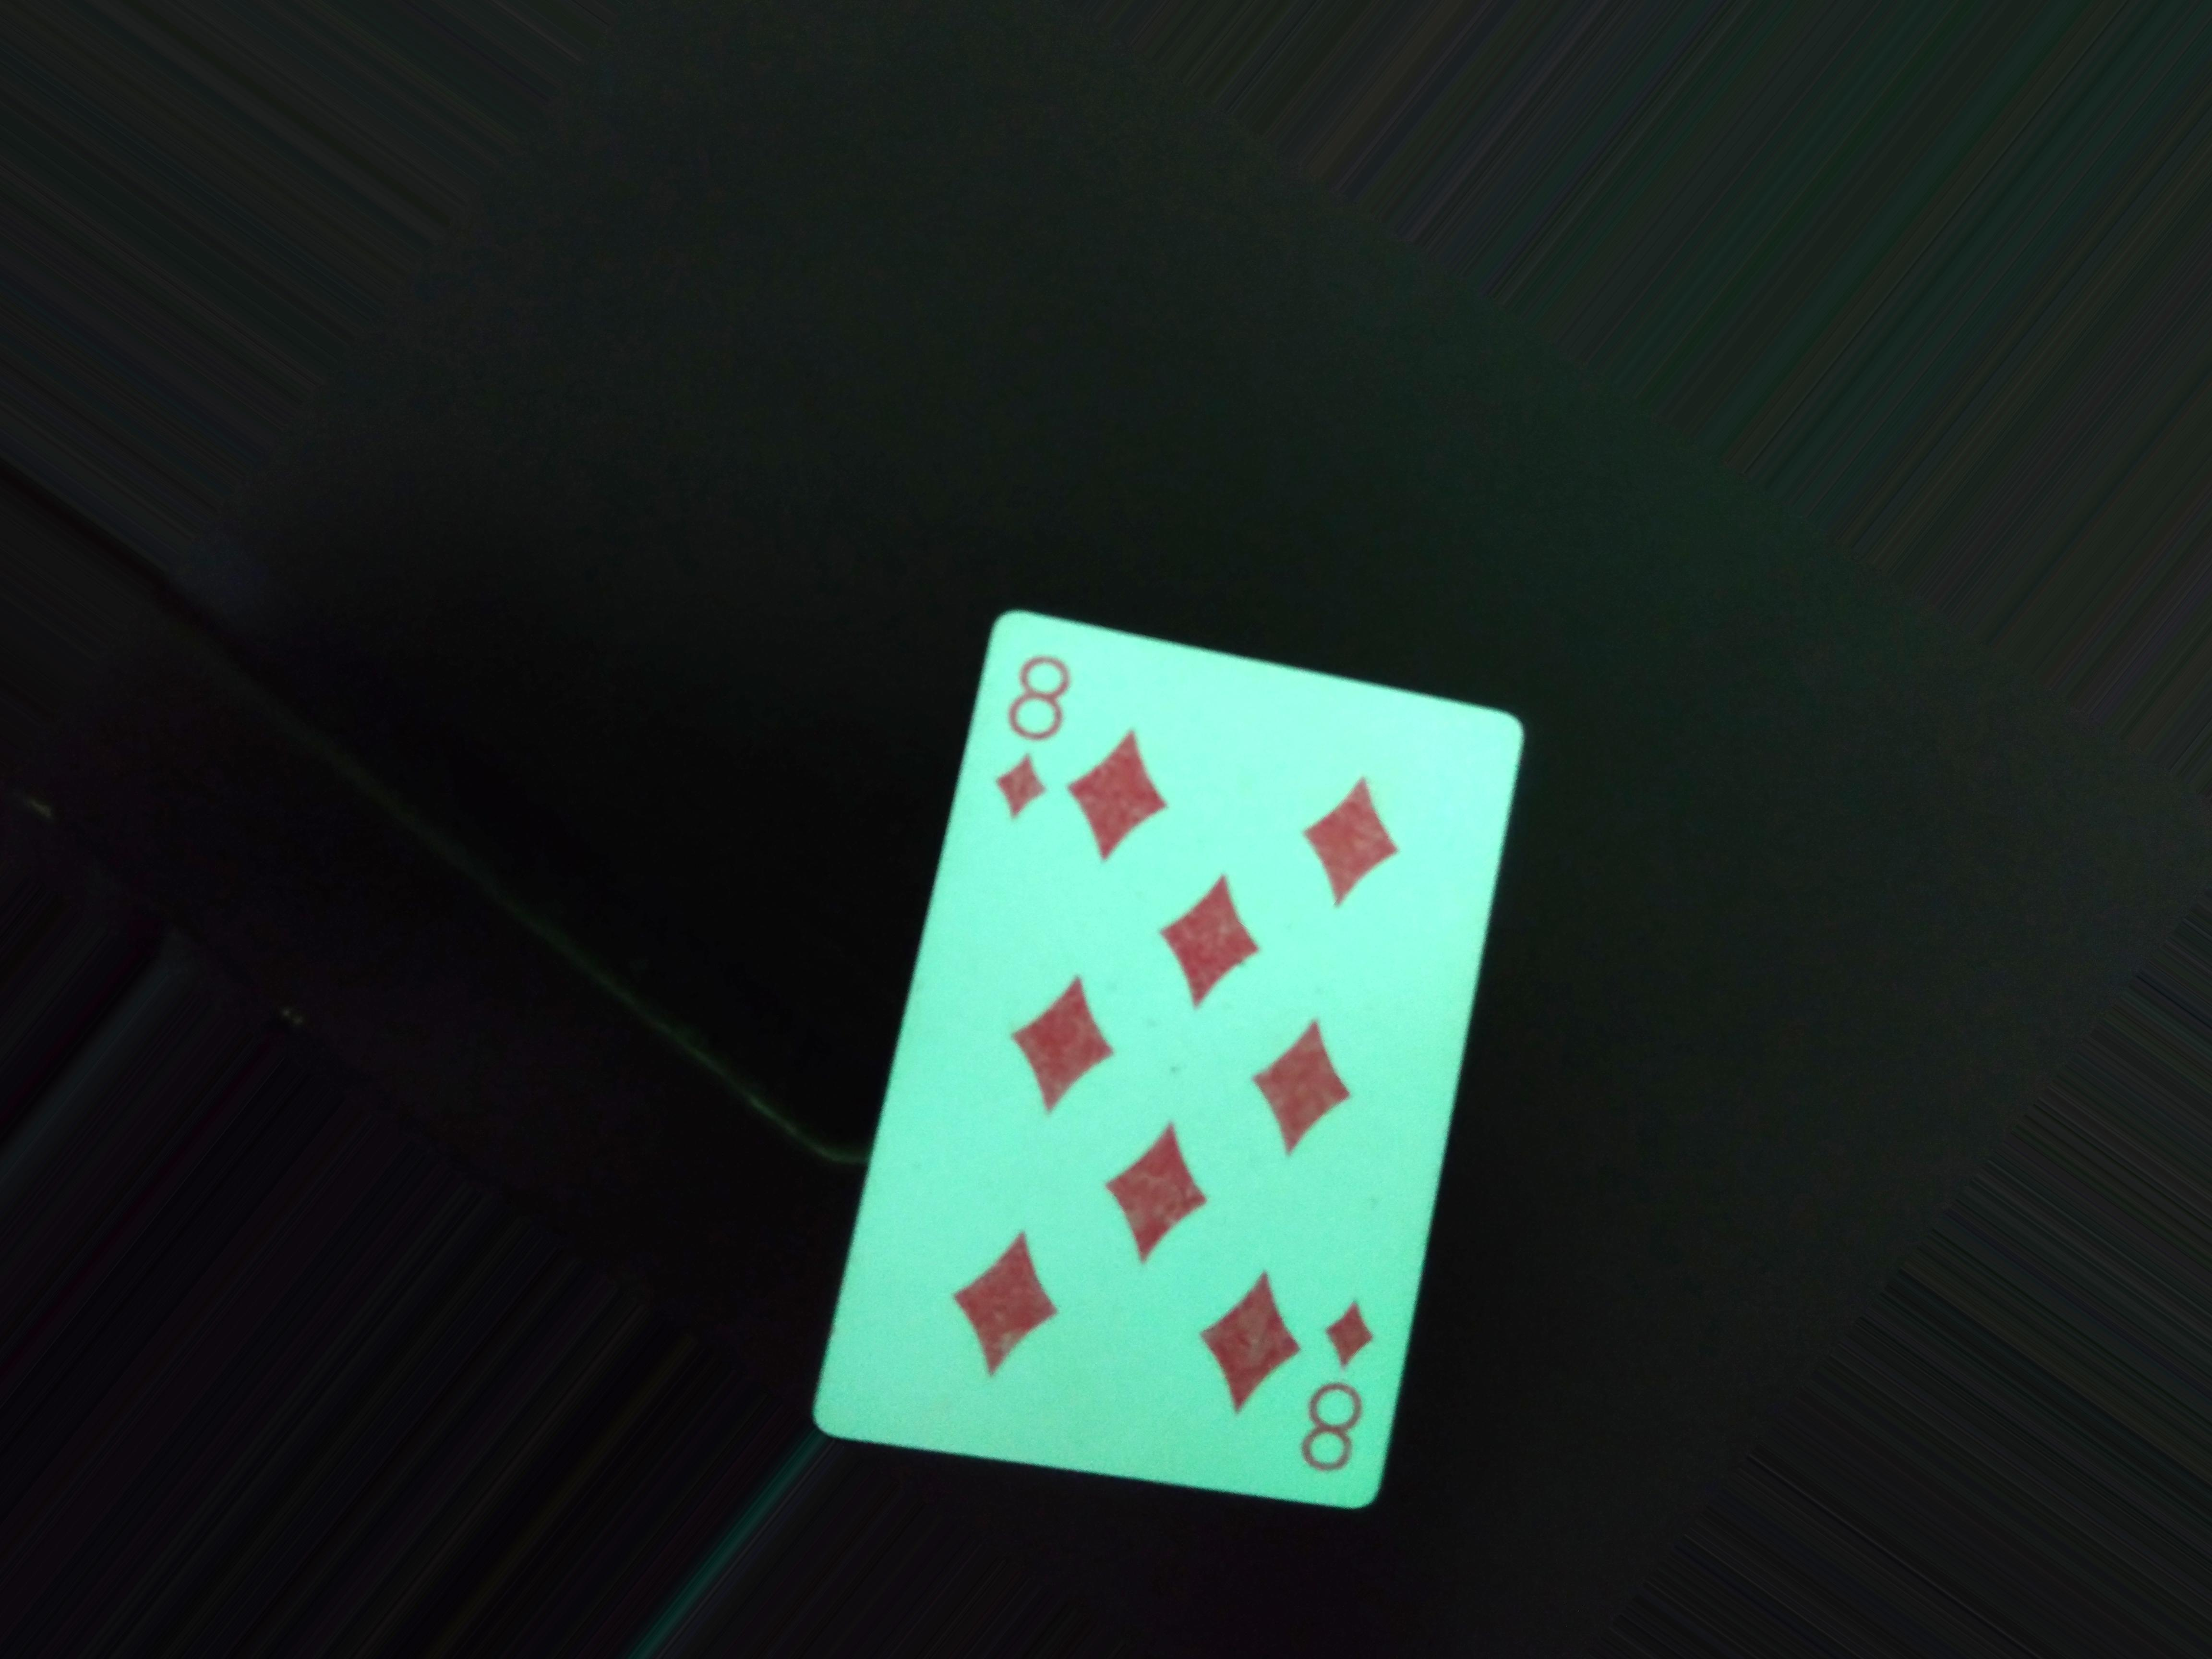8D: (965, 636, 1092, 829)
